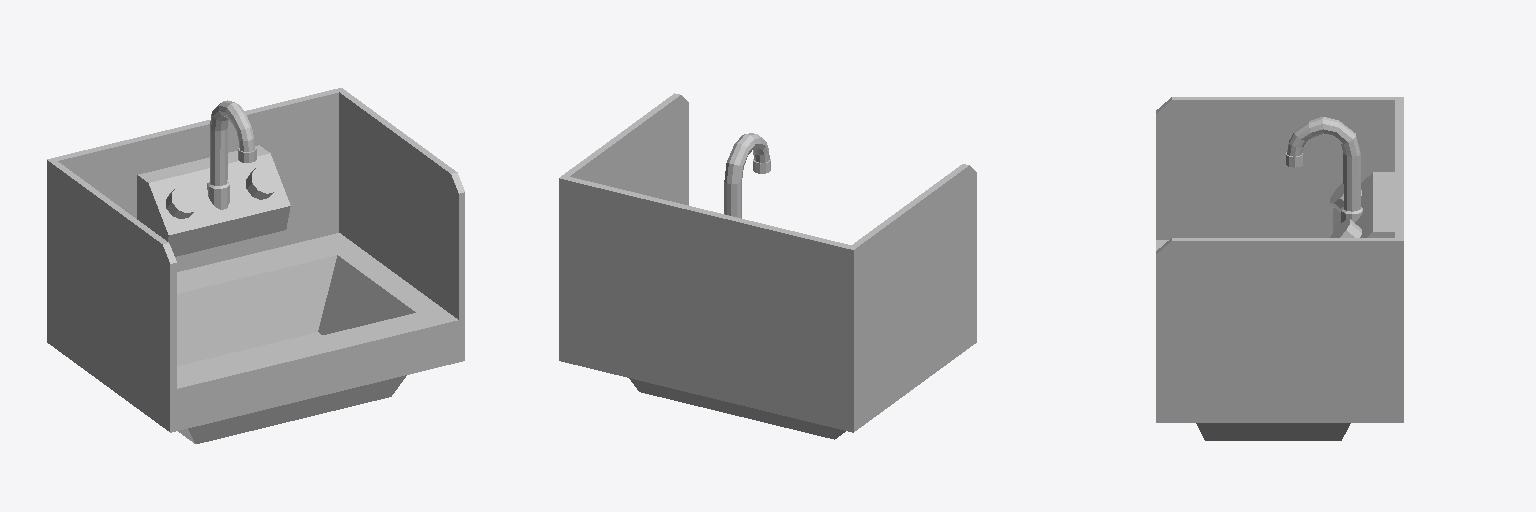
Rendered from Kitchen_handwash_station.obj.
3 views of the same model, side by side, from view 1: azimuth 30°, elevation 25°; view 2: azimuth 150°, elevation 25°; view 3: azimuth 270°, elevation 25° (orthographic).
Visible parts, largest first — view 1: pCube3; view 2: pCube3; view 3: pCube3.
Boxes of the visible parts, box(x1,y1,x2,y2) form: pCube3: box(47, 88, 464, 443); pCube3: box(559, 93, 976, 439); pCube3: box(1156, 97, 1403, 440).
Bounding box in the file's own units: 22.04 × 19.63 × 16.04.